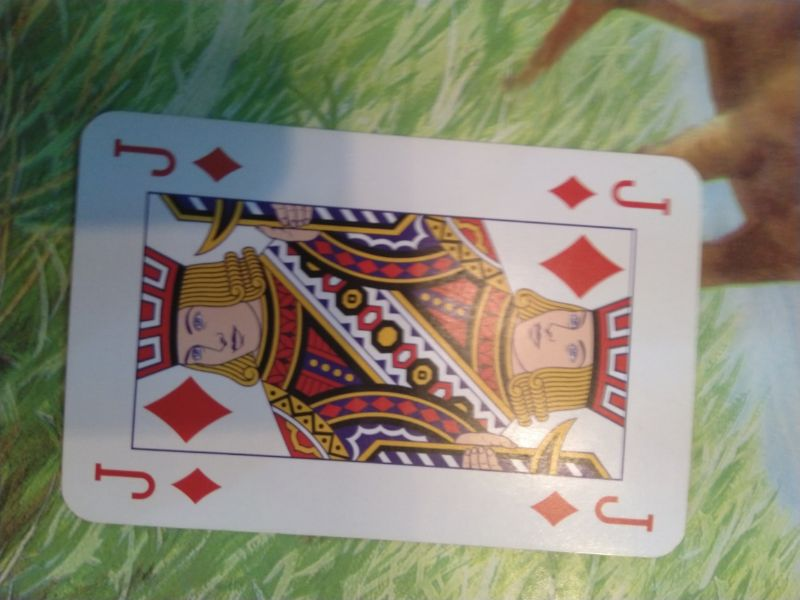Jd: (102, 125, 249, 187), (89, 458, 234, 513), (523, 482, 662, 538), (541, 171, 681, 223)
